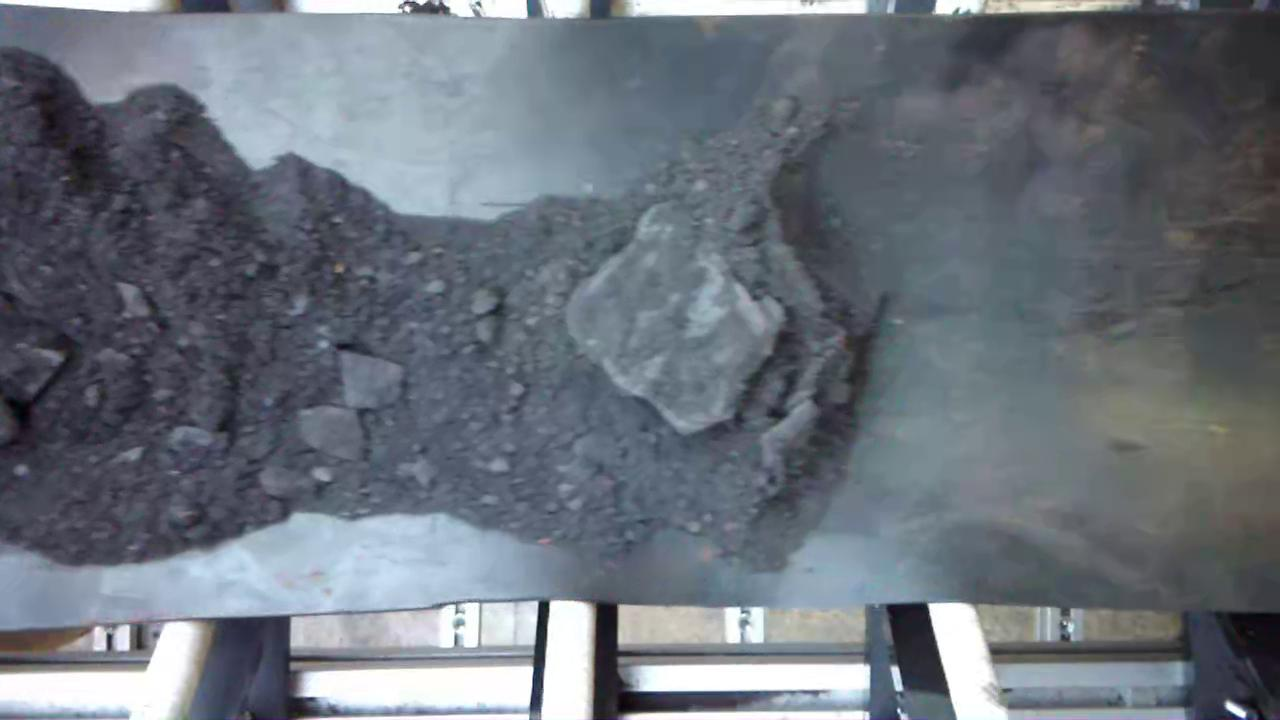conveyor: (3, 16, 1280, 609)
